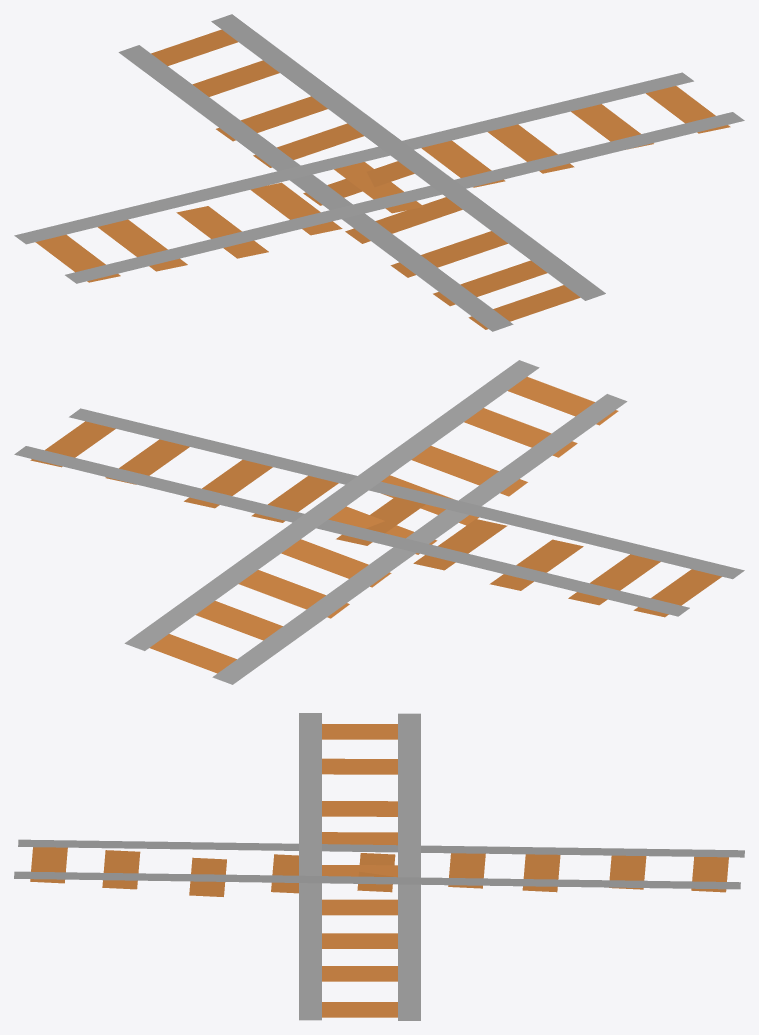
File: Rail.dae
The picture shows the model from 3 angles, top to bottom: view 1: azimuth 30°, elevation 25°; view 2: azimuth 150°, elevation 25°; view 3: azimuth 270°, elevation 25°; orthographic projection. The views are drawn at different scales.
Visible parts, largest first — view 1: Plane_021, Plane_020, Plane, Plane_001, Plane_005, Plane_003, Plane_004, Plane_016, Plane_018, Plane_017, Plane_012, Plane_015 (+10 smaller); view 2: Plane_021, Plane_020, Plane_001, Plane, Plane_016, Plane_017, Plane_012, Plane_015, Plane_014, Plane_005, Plane_003, Plane_013 (+10 smaller); view 3: Plane_001, Plane, Plane_021, Plane_020, Plane_007, Plane_004, Plane_005, Plane_006, Plane_008, Plane_009, Plane_010, Plane_016 (+10 smaller).
Boxes of the visible parts, x1=… form: Plane_021: x1=211, y1=14, x2=605, y2=300; Plane_020: x1=118, y1=45, x2=513, y2=331; Plane: x1=65, y1=112, x2=744, y2=283; Plane_001: x1=14, y1=72, x2=693, y2=244; Plane_005: x1=176, y1=206, x2=268, y2=258; Plane_003: x1=250, y1=182, x2=342, y2=235; Plane_004: x1=97, y1=219, x2=187, y2=271; Plane_016: x1=390, y1=231, x2=507, y2=277; Plane_018: x1=345, y1=197, x2=462, y2=243; Plane_017: x1=433, y1=260, x2=547, y2=306; Plane_012: x1=216, y1=96, x2=327, y2=141; Plane_015: x1=468, y1=285, x2=580, y2=329; Plane_021: x1=124, y1=360, x2=539, y2=650; Plane_020: x1=212, y1=394, x2=627, y2=684; Plane_001: x1=14, y1=446, x2=689, y2=616; Plane: x1=69, y1=408, x2=744, y2=579; Plane_016: x1=411, y1=446, x2=527, y2=496; Plane_017: x1=464, y1=408, x2=577, y2=457; Plane_012: x1=239, y1=570, x2=349, y2=618; Plane_015: x1=508, y1=376, x2=618, y2=425; Plane_014: x1=281, y1=539, x2=391, y2=587; Plane_005: x1=489, y1=539, x2=583, y2=590; Plane_003: x1=413, y1=519, x2=507, y2=570; Plane_013: x1=196, y1=601, x2=282, y2=640; Plane_001: x1=398, y1=713, x2=420, y2=1020; Plane: x1=299, y1=713, x2=321, y2=1020; Plane_021: x1=14, y1=871, x2=740, y2=889; Plane_020: x1=18, y1=839, x2=744, y2=857; Plane_007: x1=322, y1=899, x2=397, y2=915; Plane_004: x1=322, y1=758, x2=397, y2=774; Plane_005: x1=322, y1=801, x2=397, y2=816; Plane_006: x1=322, y1=724, x2=397, y2=739; Plane_008: x1=322, y1=966, x2=397, y2=981; Plane_009: x1=322, y1=933, x2=397, y2=948; Plane_010: x1=322, y1=1002, x2=397, y2=1017; Plane_016: x1=189, y1=857, x2=226, y2=896.
Size of the model in its own units: 2.01 by 2.01 by 0.0844.
